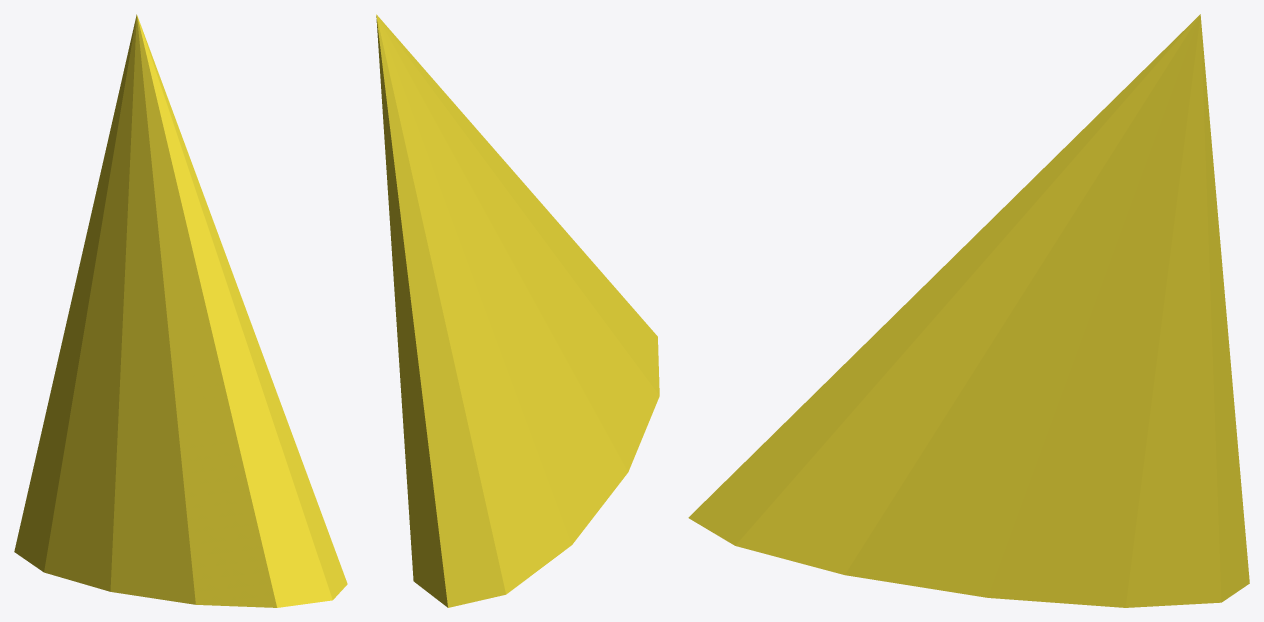
The model's file is n5_n5_group857496374_lev5.001.glb.
3 renders of one model, left to right at view 1: azimuth 30°, elevation 25°; view 2: azimuth 150°, elevation 25°; view 3: azimuth 270°, elevation 25°, orthographic. The views are drawn at different scales.
Visible parts, largest first — view 1: n5_n5_group857496374_lev5.001; view 2: n5_n5_group857496374_lev5.001; view 3: n5_n5_group857496374_lev5.001.
Boxes of the visible parts, x1,y1,x2,y2 form: n5_n5_group857496374_lev5.001: [14, 14, 347, 607]; n5_n5_group857496374_lev5.001: [376, 14, 659, 607]; n5_n5_group857496374_lev5.001: [688, 14, 1249, 607].
Size of the model in its own units: 0.471 by 1.36 by 1.11.
